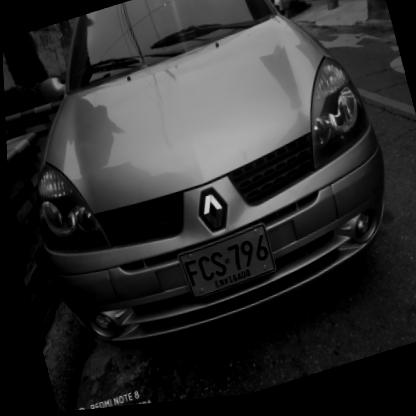placa: (167, 224, 280, 309)
